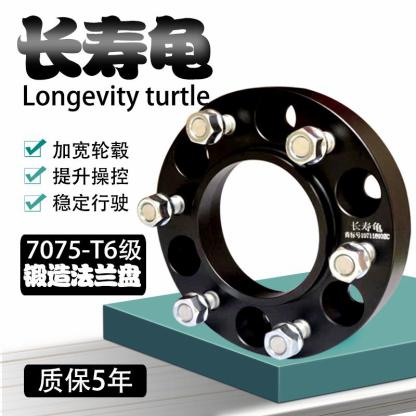FOD: (152, 80, 412, 361)
